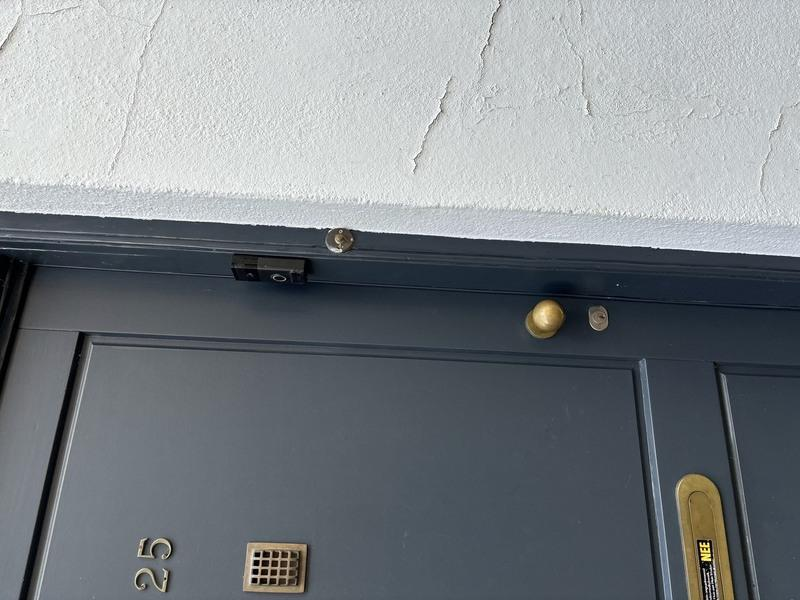doorbell: (313, 223, 348, 310)
